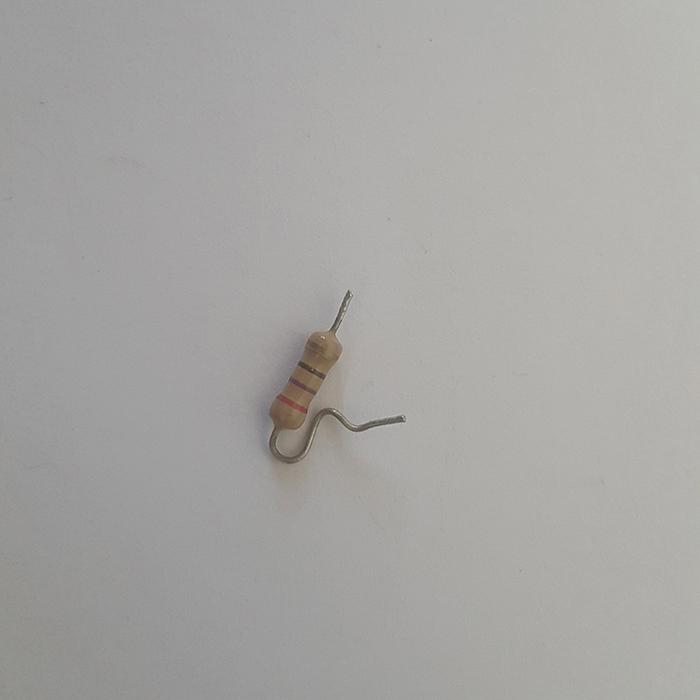resistor: (269, 327, 342, 432)
